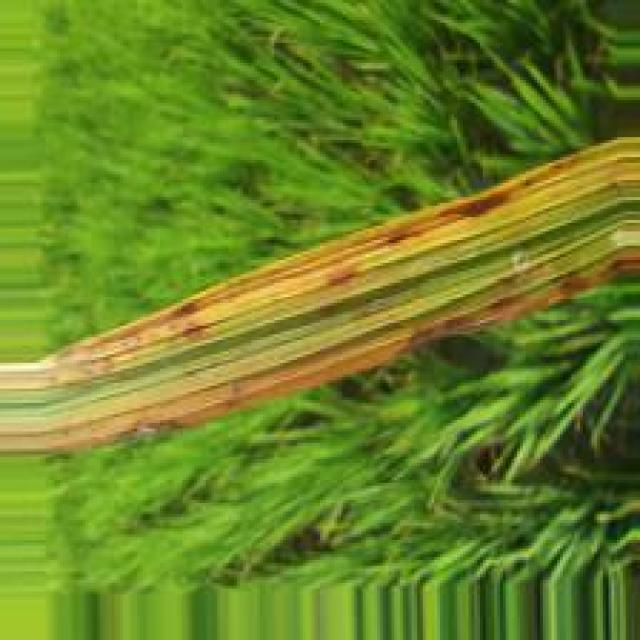Narrow_Brown_Leaf_Spot: (0, 136, 640, 393), (6, 213, 640, 457)
